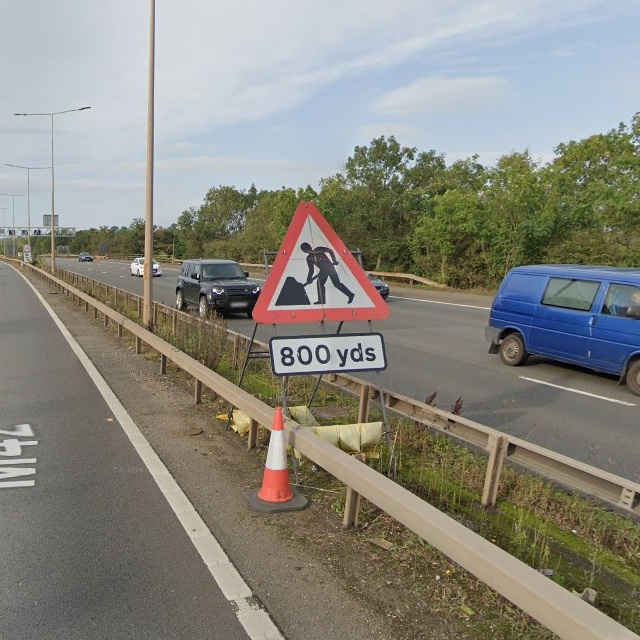Roadworks: (248, 195, 393, 325)
